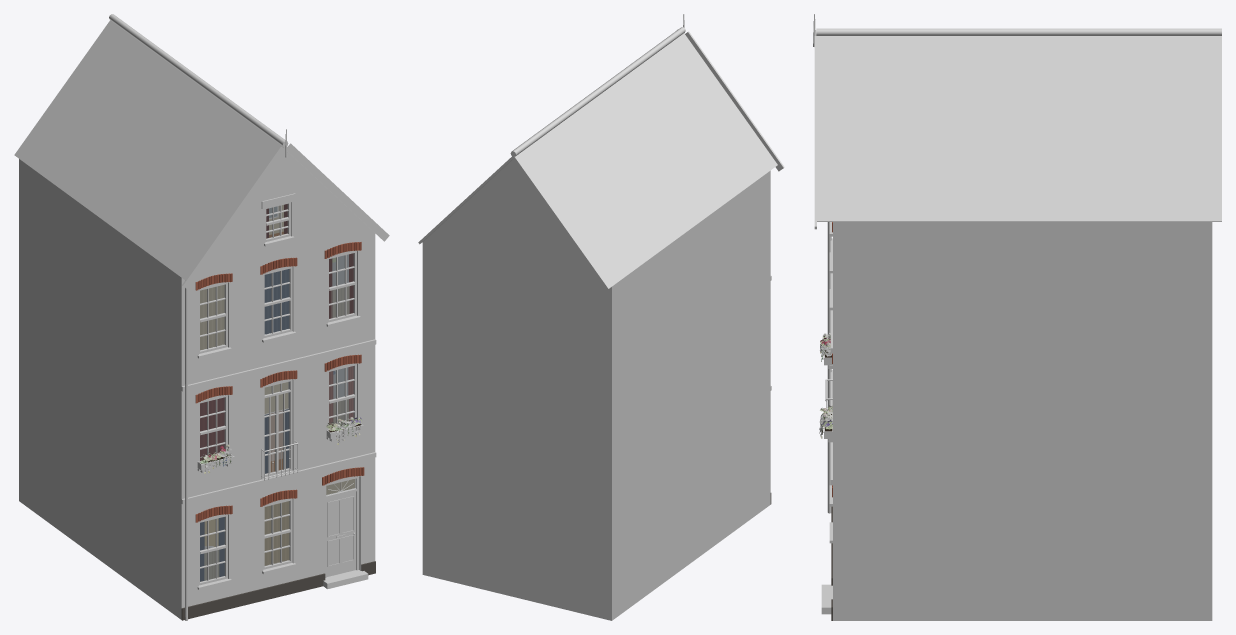
Rendered from StraightEnd_Street1.glb.
The picture shows the model from 3 angles, left to right: view 1: azimuth 30°, elevation 25°; view 2: azimuth 150°, elevation 25°; view 3: azimuth 270°, elevation 25°; orthographic projection. The views are drawn at different scales.
Parts seen in each view (by area): view 1: StraightEnd_Street1; view 2: StraightEnd_Street1; view 3: StraightEnd_Street1.
Boxes of the visible parts, x1,y1,x2,y2 form: StraightEnd_Street1: [14, 14, 389, 620]; StraightEnd_Street1: [418, 14, 784, 620]; StraightEnd_Street1: [813, 14, 1221, 620].
Size of what is drawn, in the model's own units: 5.88 by 12.83 by 8.62.
